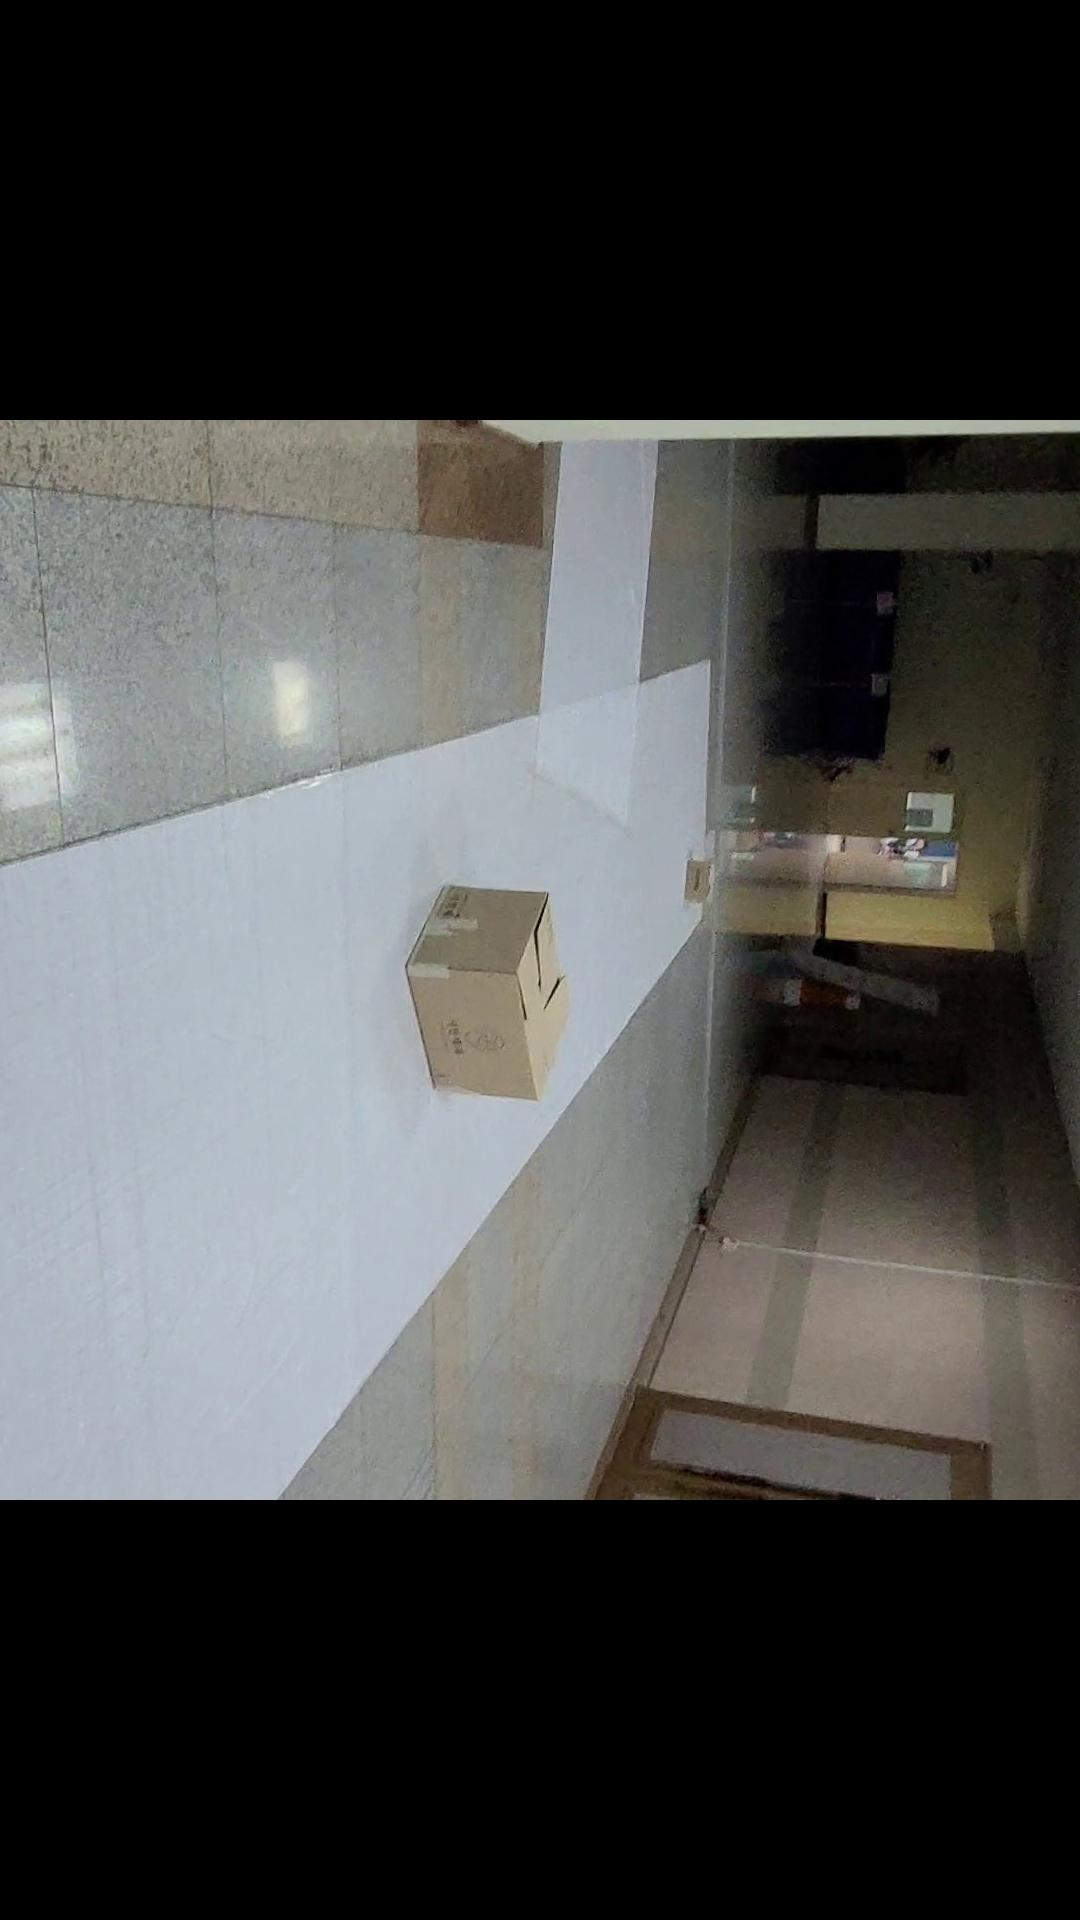Box: (368, 853, 595, 1145), (663, 836, 720, 905)
